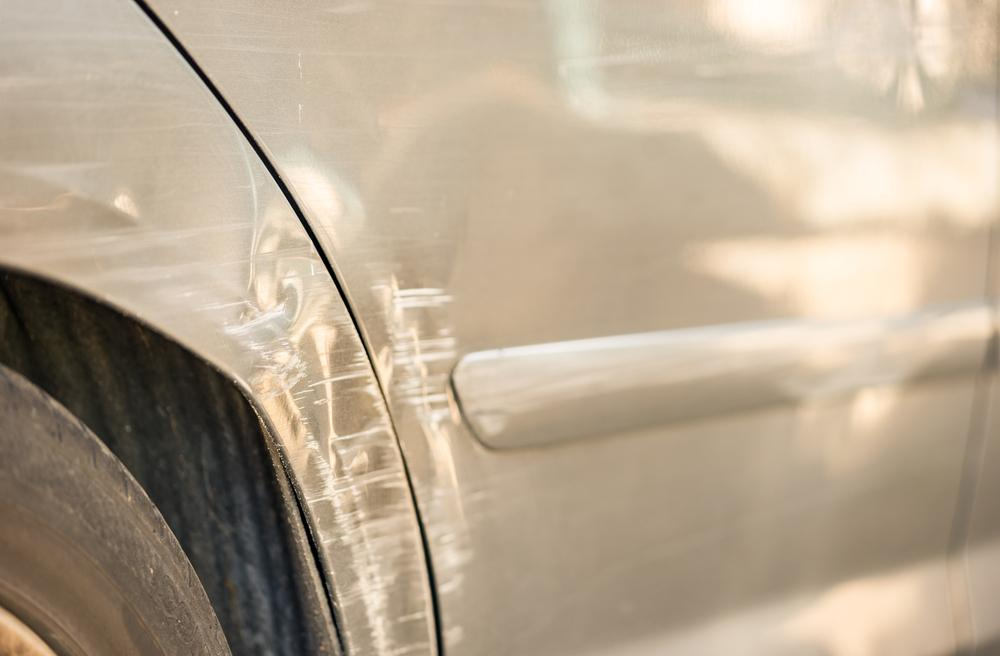scratch: (63, 228, 437, 656), (374, 266, 473, 656)
